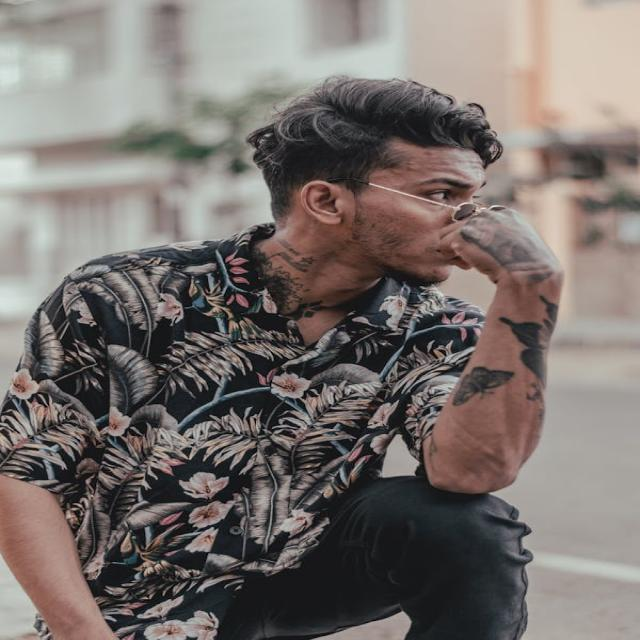Real human 2: (26, 56, 569, 640)
